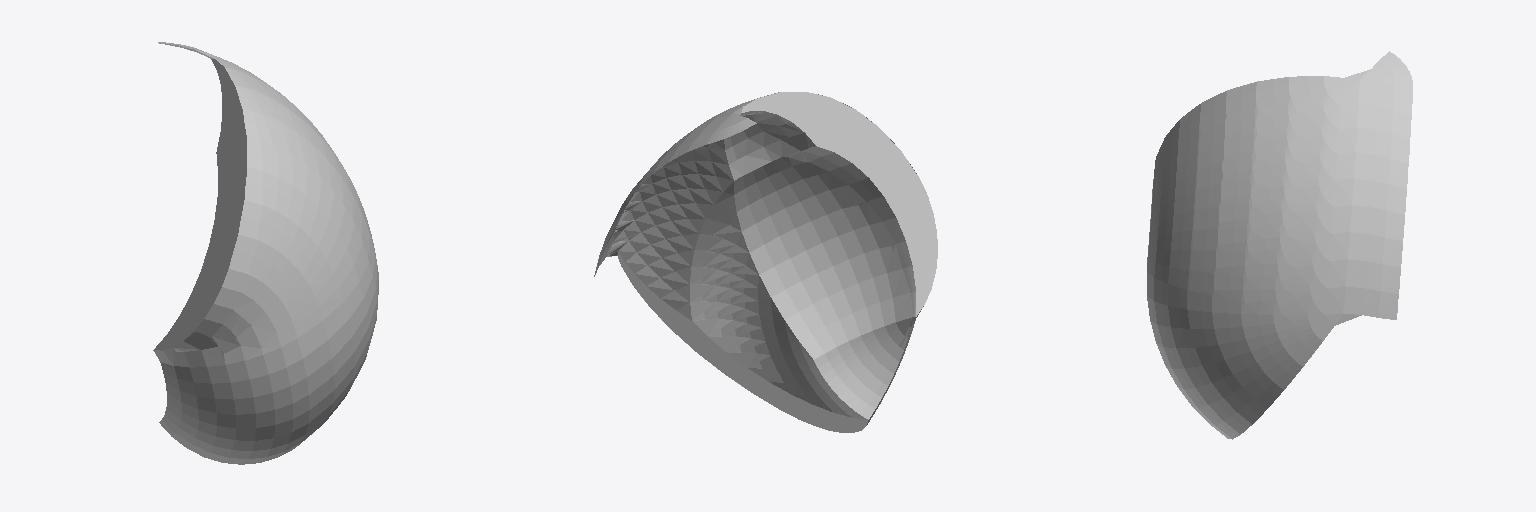
Rendered from thumb_workspace_concave_hull.obj.
3 renders of one model, left to right at view 1: azimuth 30°, elevation 25°; view 2: azimuth 150°, elevation 25°; view 3: azimuth 270°, elevation 25°, orthographic.
Size of the model in its own units: 0.1644 by 0.2295 by 0.1513.